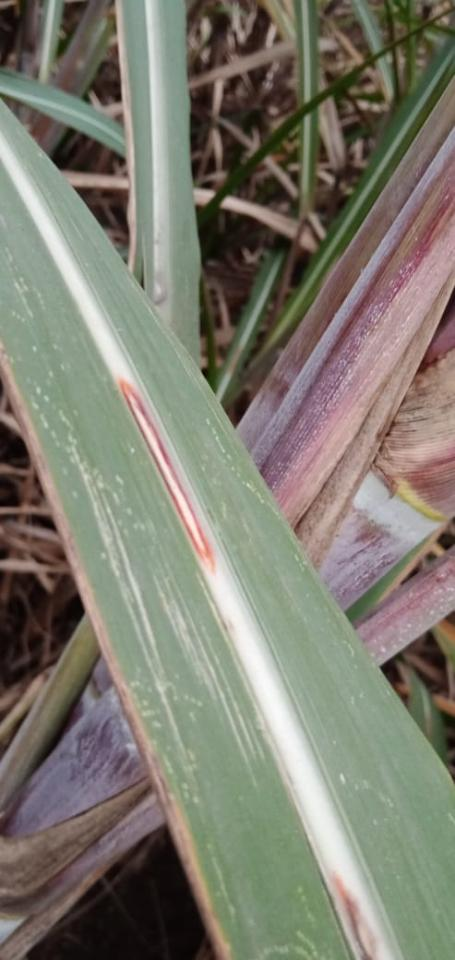RedRot: (118, 376, 216, 575), (331, 869, 377, 959)
